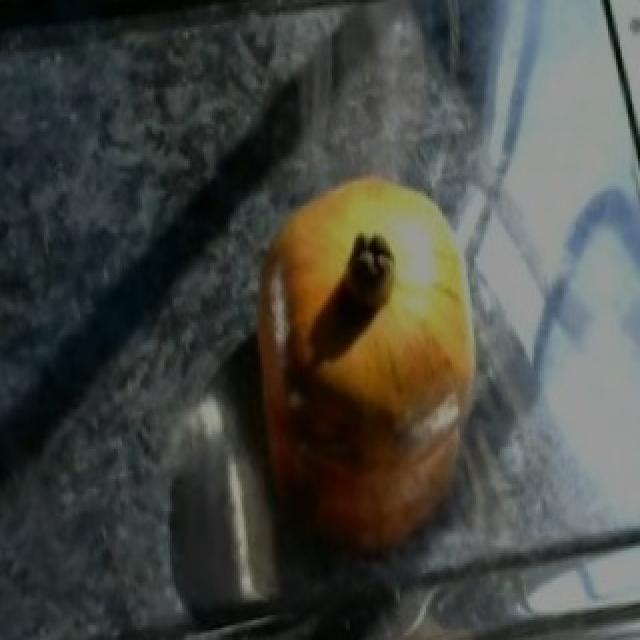fruit: (234, 154, 500, 392), (246, 313, 476, 578)
